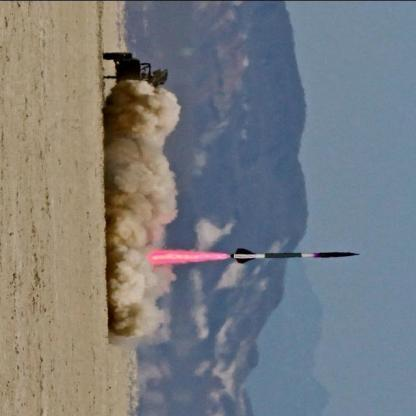MIL_TBM: (230, 248, 362, 264)
